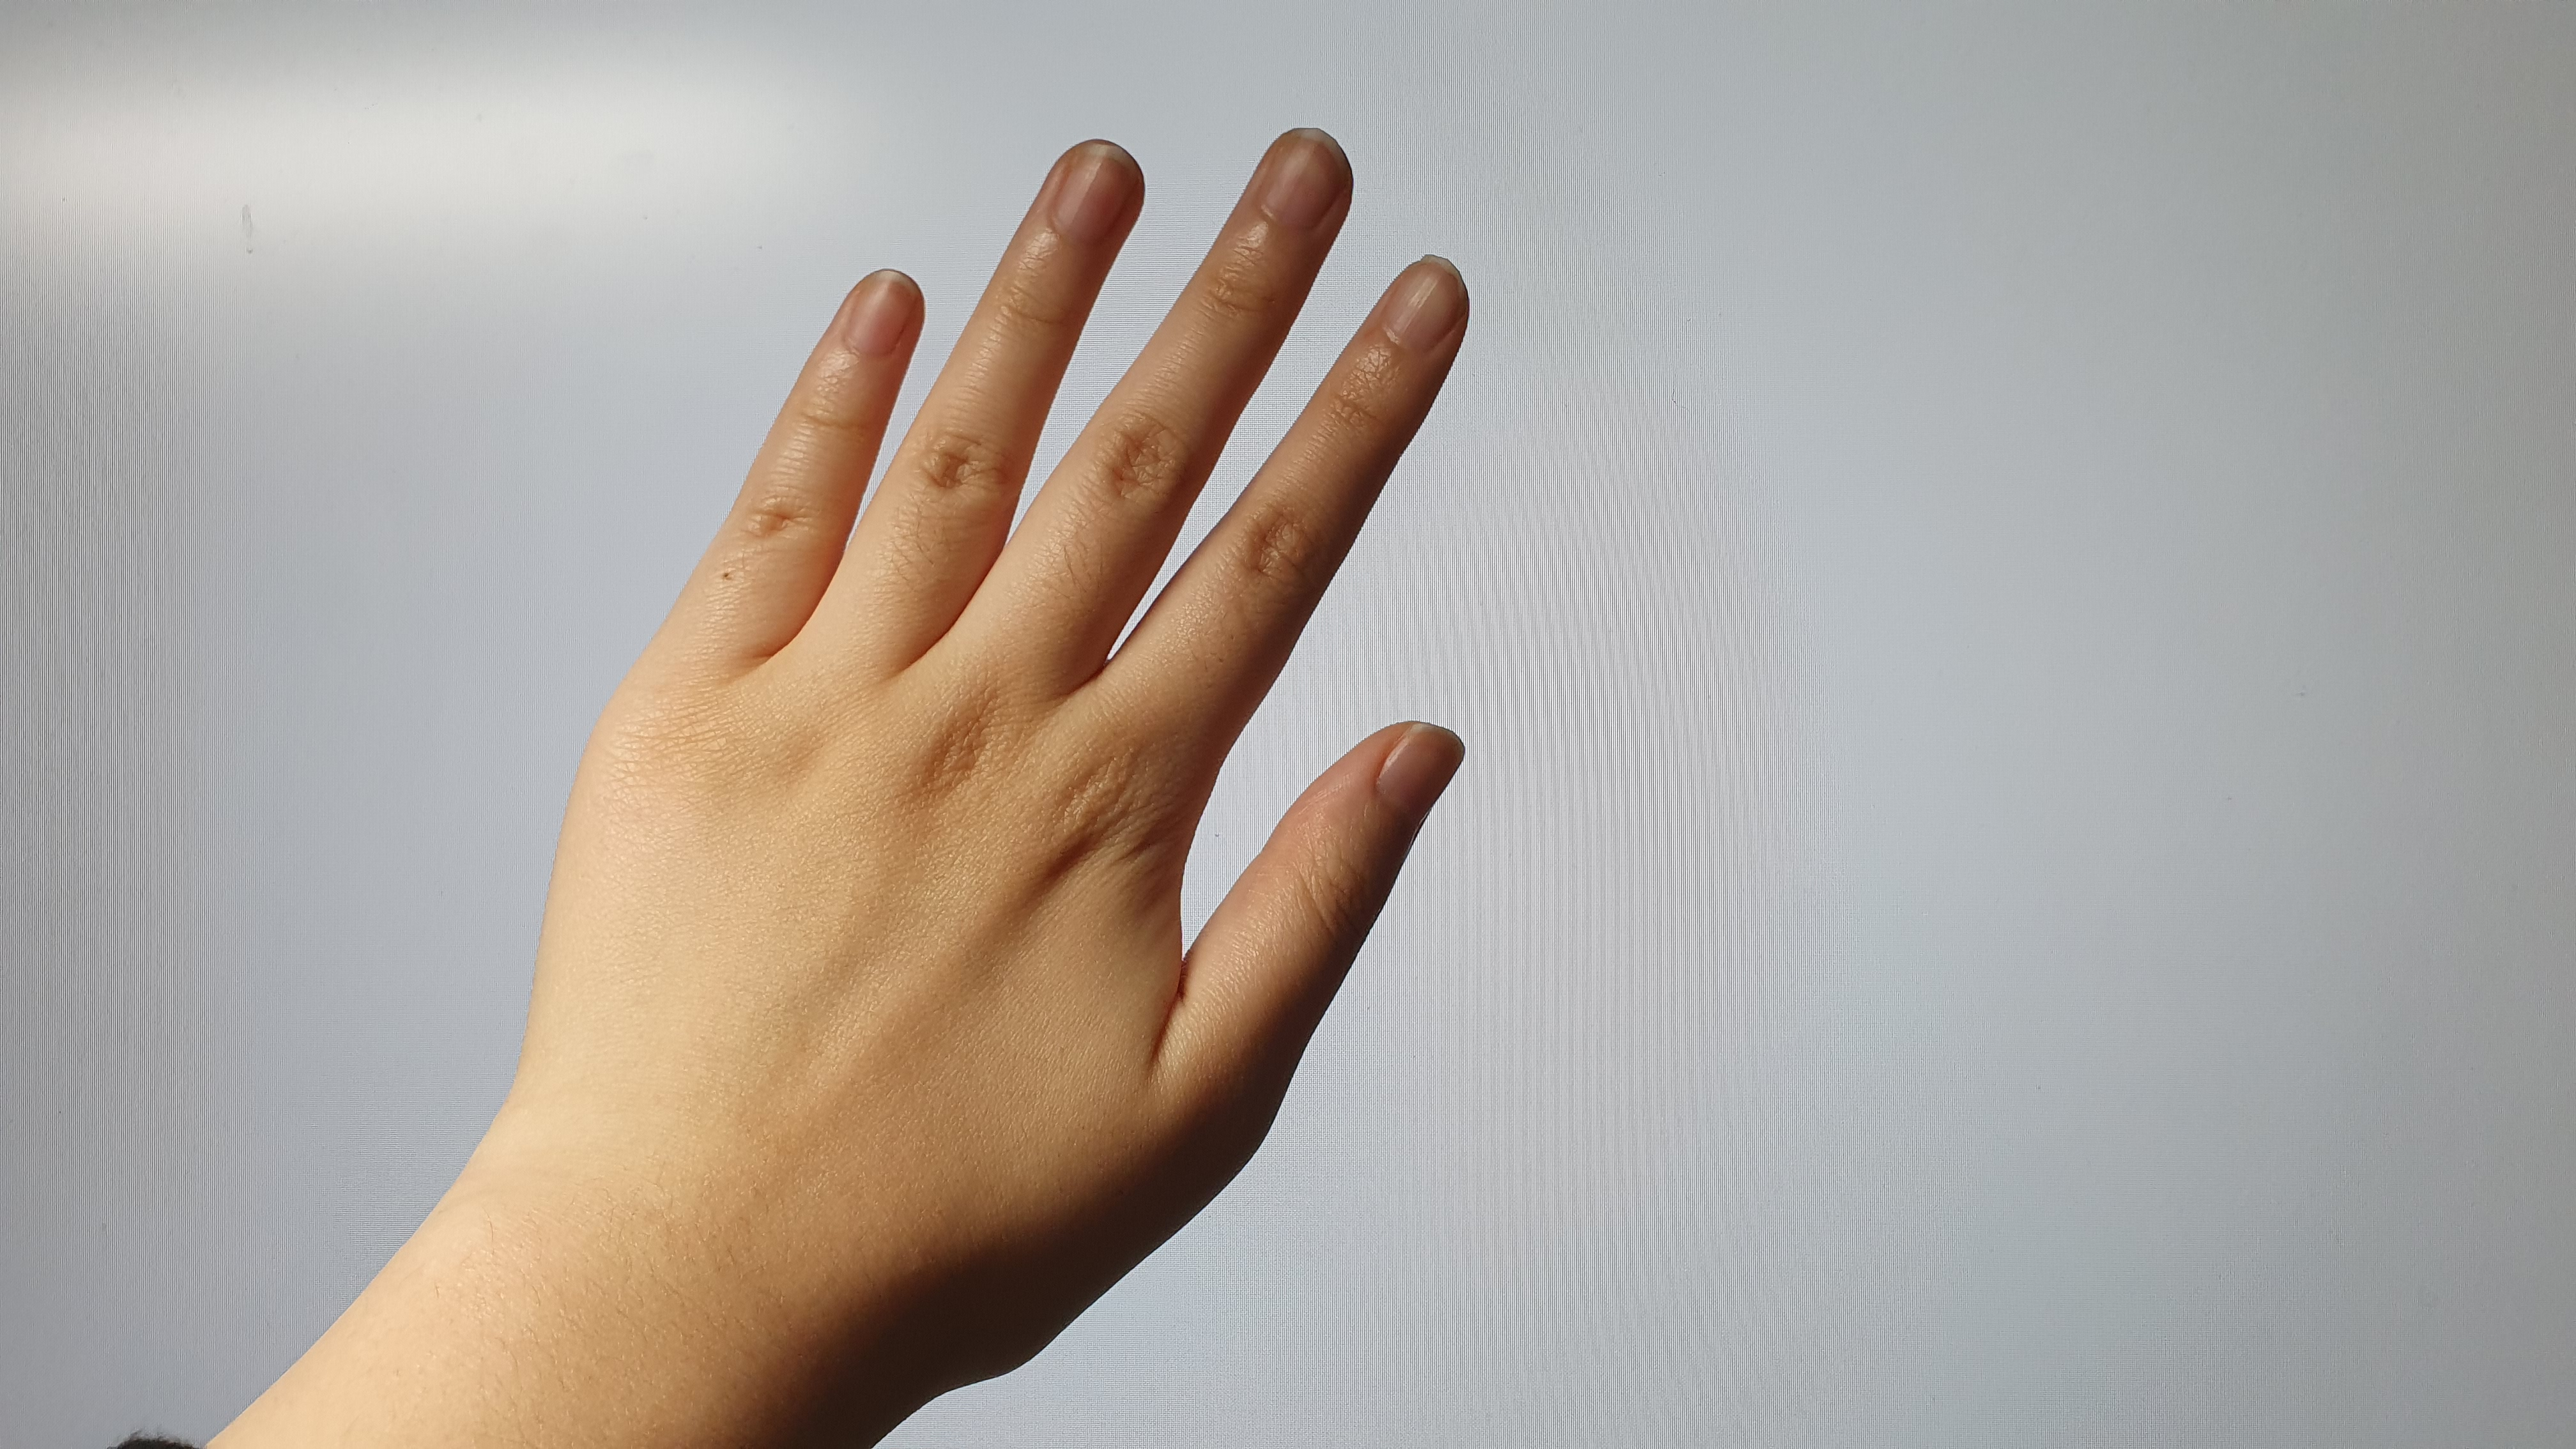backhand: (545, 644, 1177, 1368)
hand: (520, 113, 1476, 1380)
index finger: (1134, 244, 1477, 775)
middle finger: (961, 120, 1366, 738)
pinky: (639, 264, 927, 701)
ring finger: (830, 124, 1155, 708)
thumb: (1173, 711, 1484, 1127)
